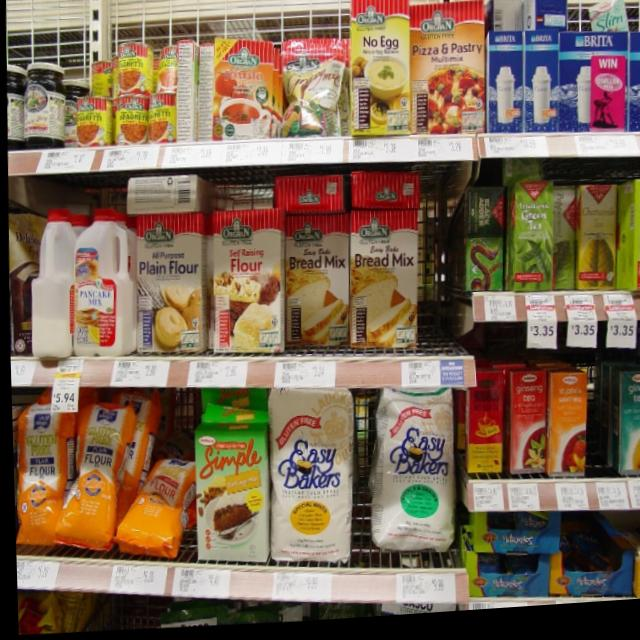q247: (504, 179, 561, 309)
